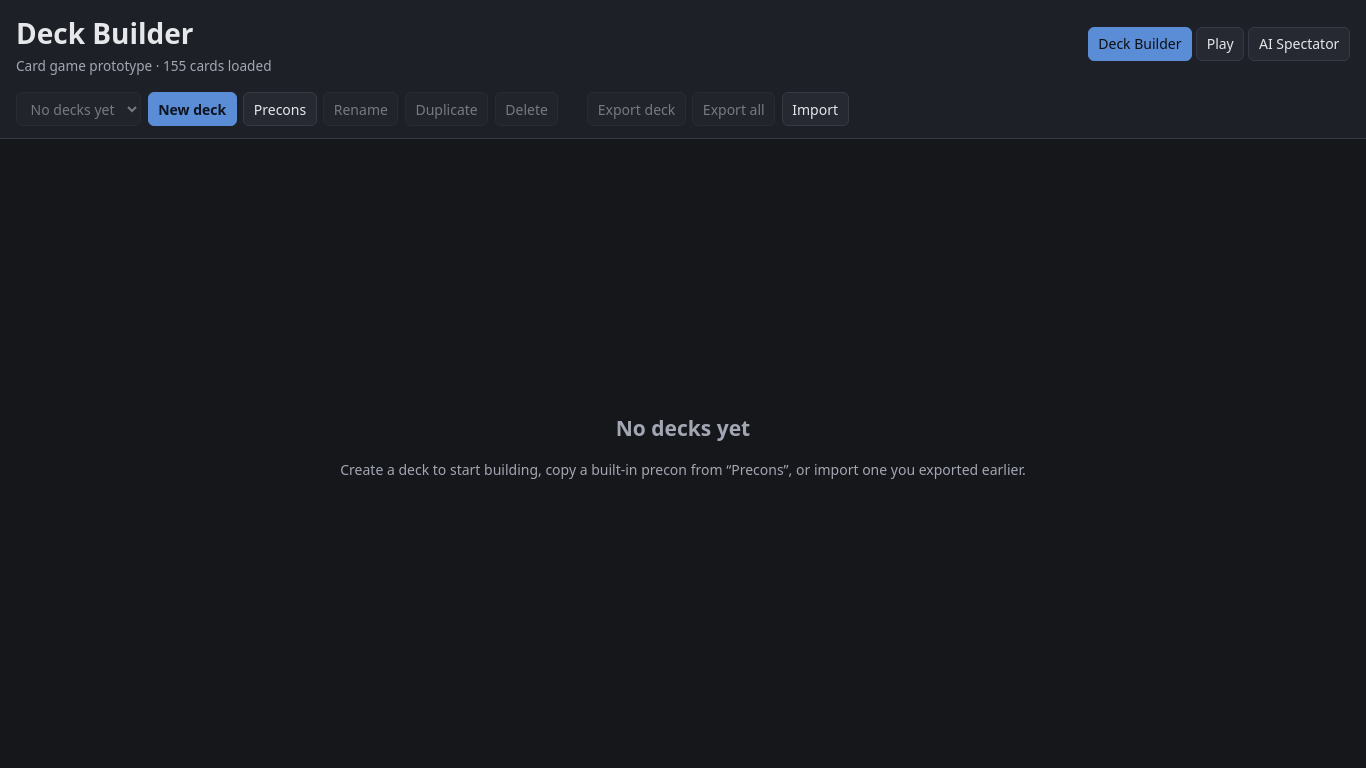
Test: precon browser › closes on Escape and returns focus to the button that opened it
The image size is (1366, 768).
Click the button "Precons" at (280, 109), box [243,92,317,126]
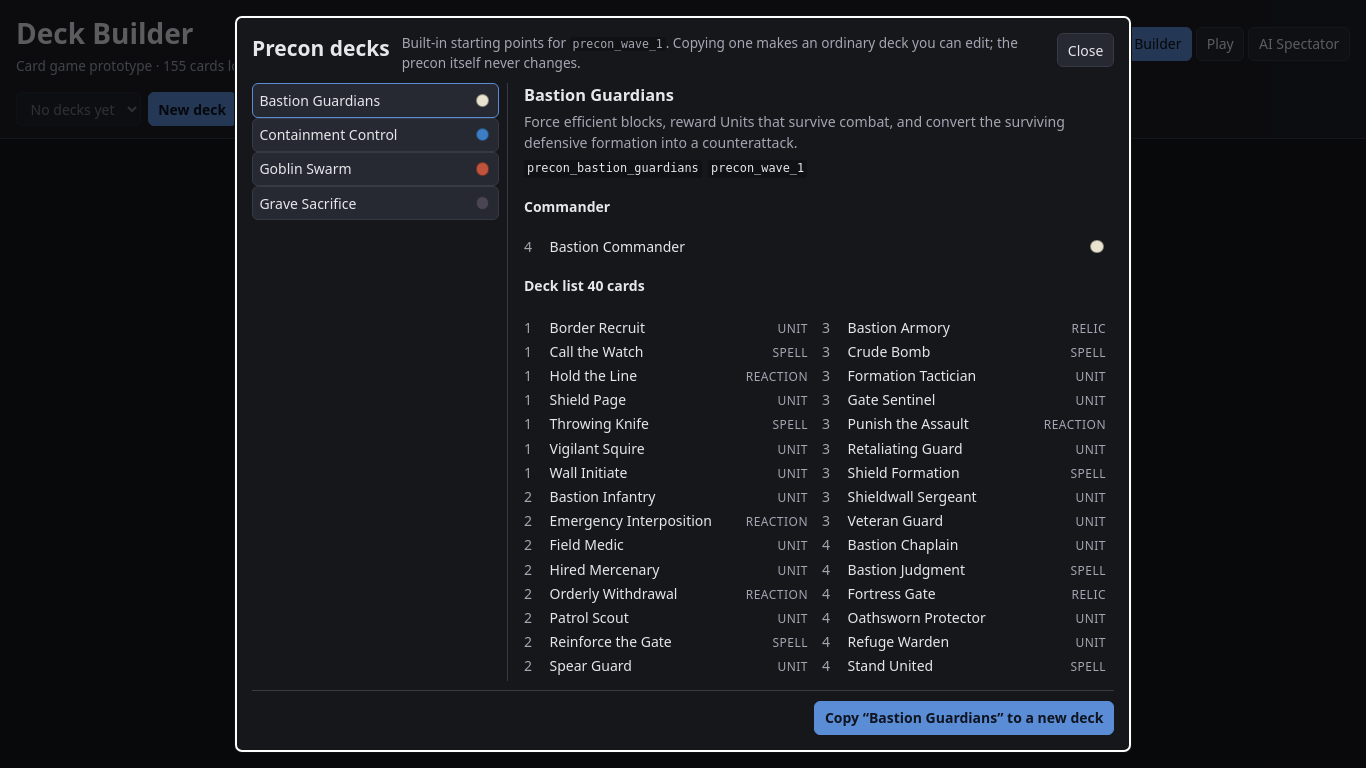
Press Escape
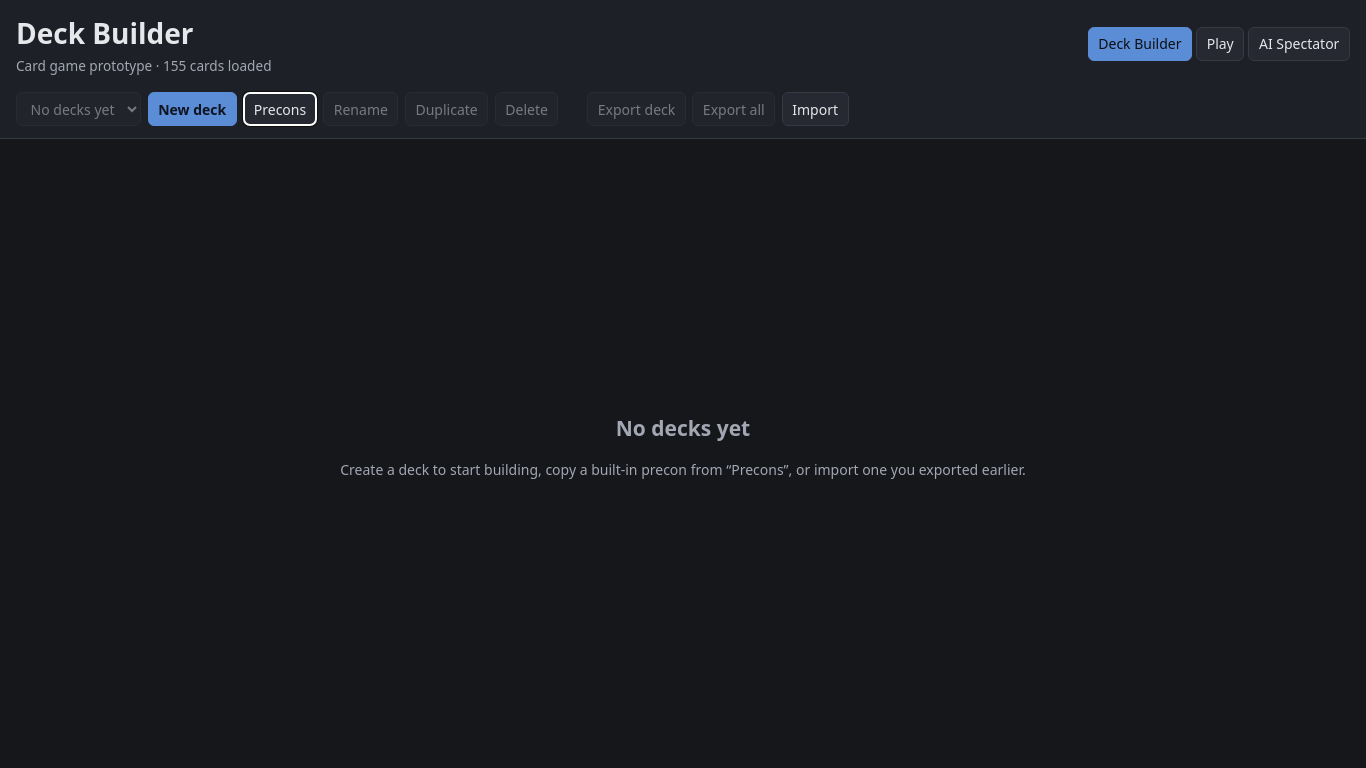
Expected: the heading "Precon decks" is gone
